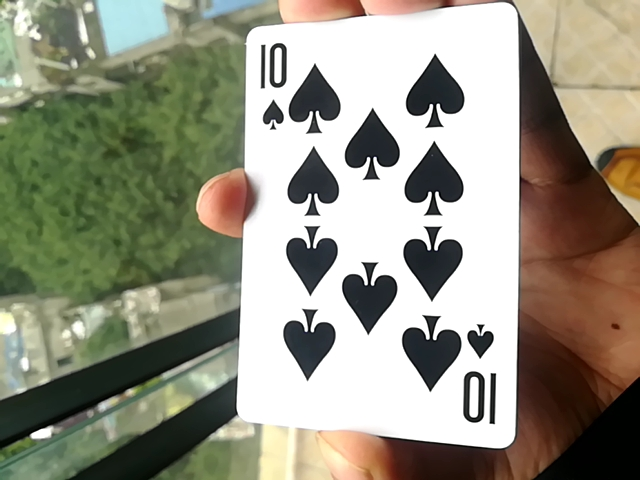ht 10: (235, 1, 518, 452)
